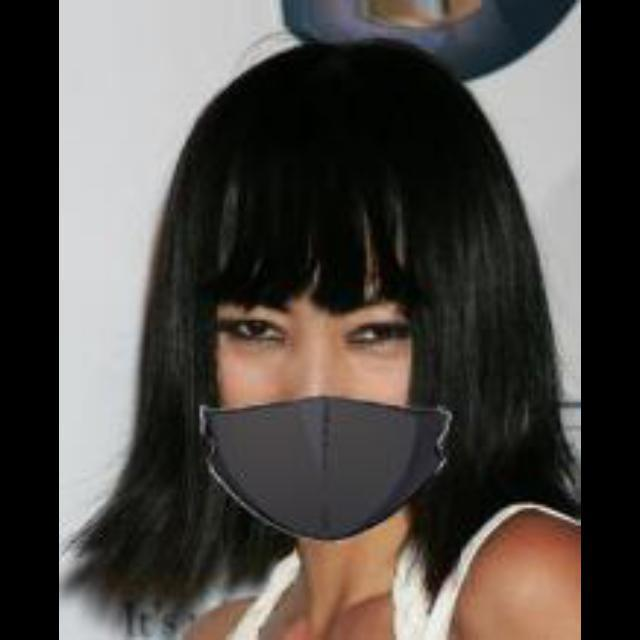suspicion: (110, 38, 536, 556)
